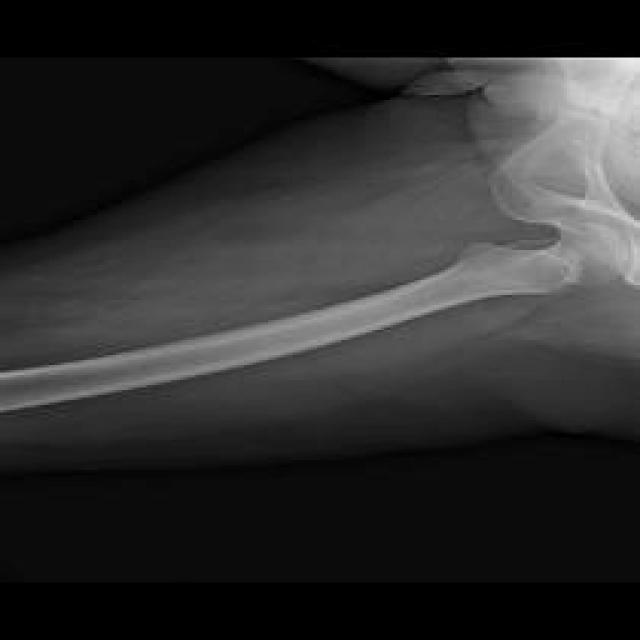normal: (4, 111, 639, 411)
